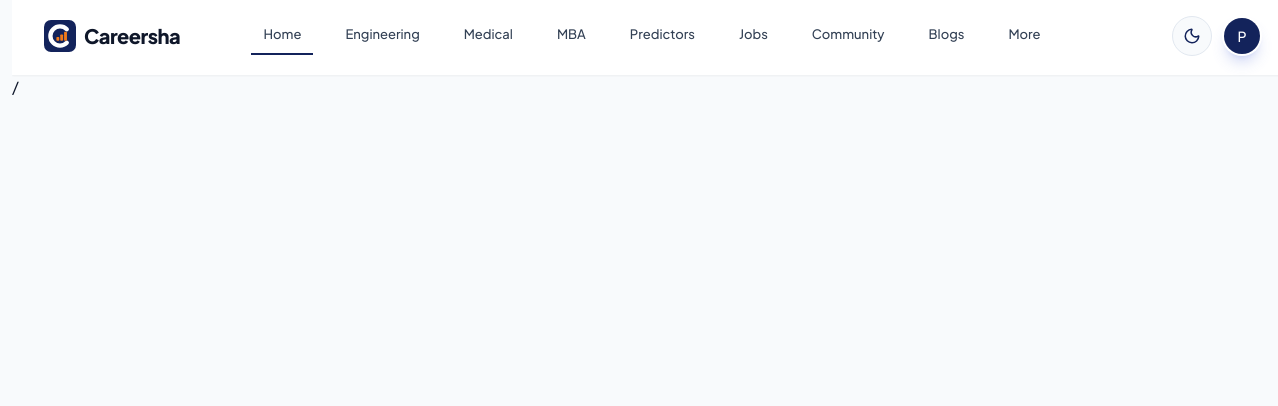
Test: Header profile menu › opens an account page and closes the menu
Step 1. Click the button named "Account menu" → x=1242, y=36, box left=1224, top=18, right=1260, bottom=54
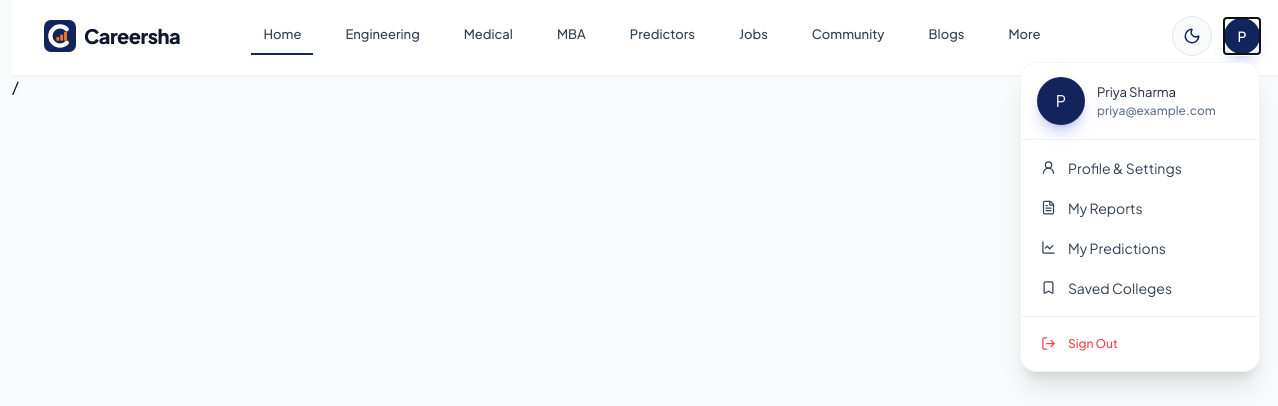
Step 2. Click the link "Saved Colleges" → x=1107, y=288, box left=1041, top=279, right=1172, bottom=297
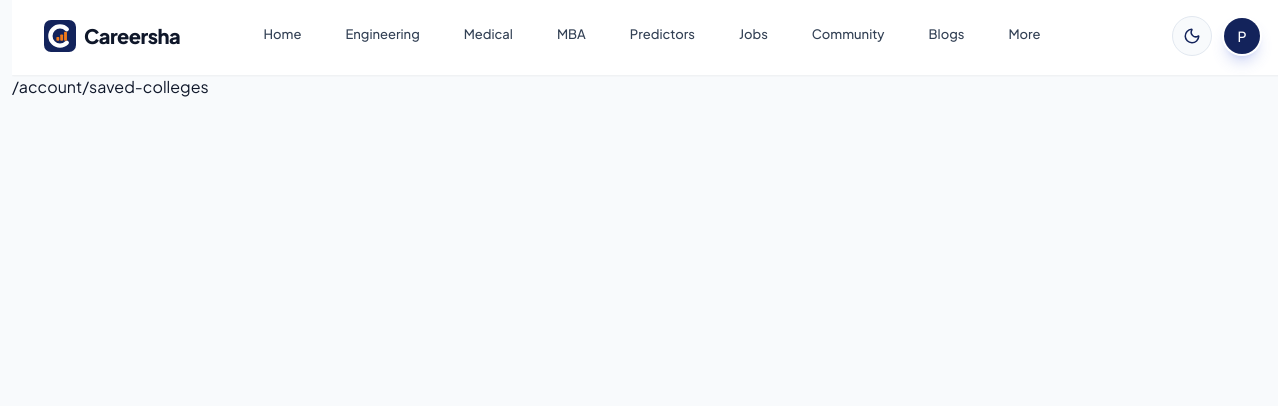
Expected: the text with test id "location" reads "/account/saved-colleges", left=12, top=76, right=209, bottom=96
Expected: the link "My Reports" is gone
